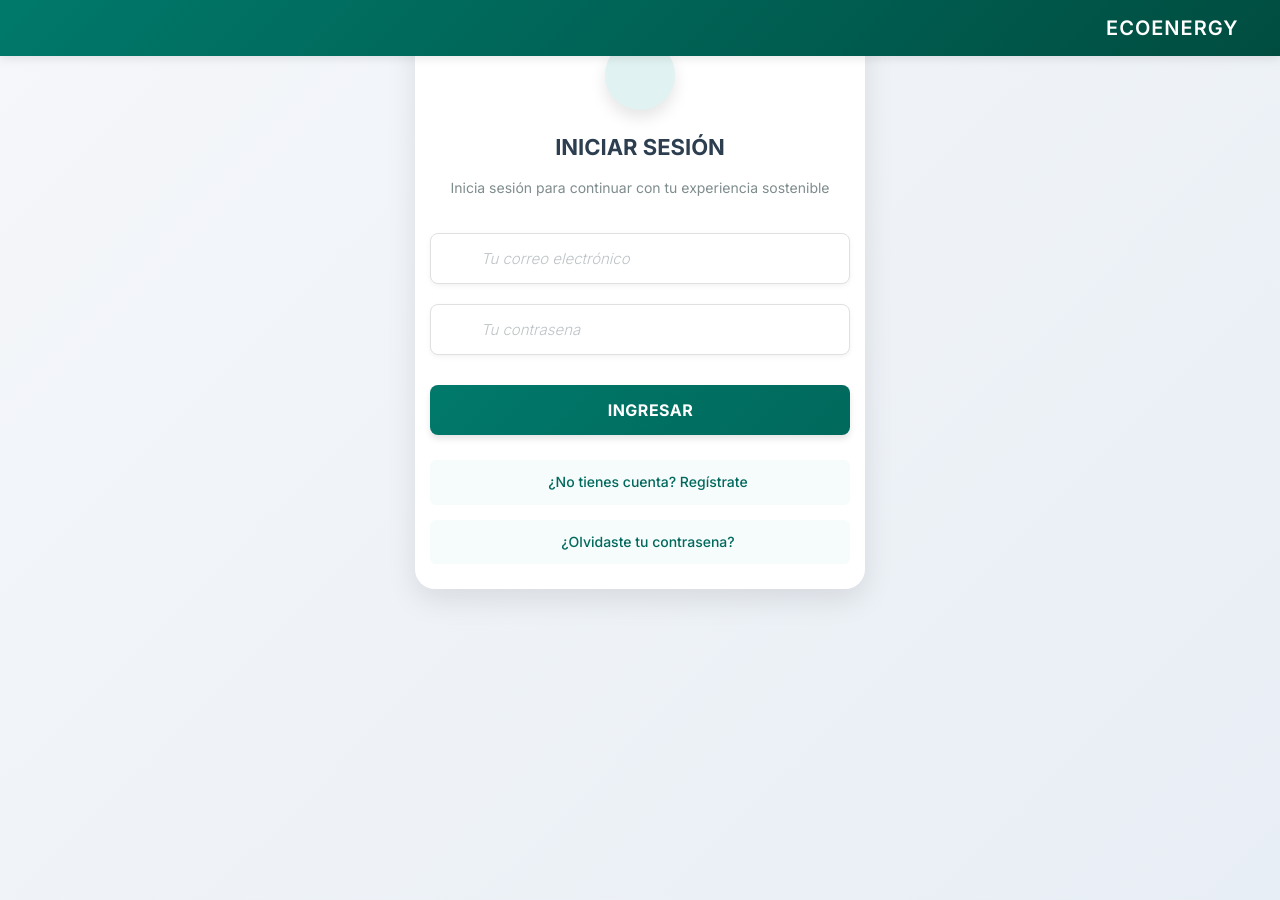
Test: Login | casos de formulario › Email correcto y sin contrasena
Type "admin@gmail.com" into the field with placeholder "Tu correo electrónico" at [640, 259], box x1=430 y1=233 x2=850 y2=284
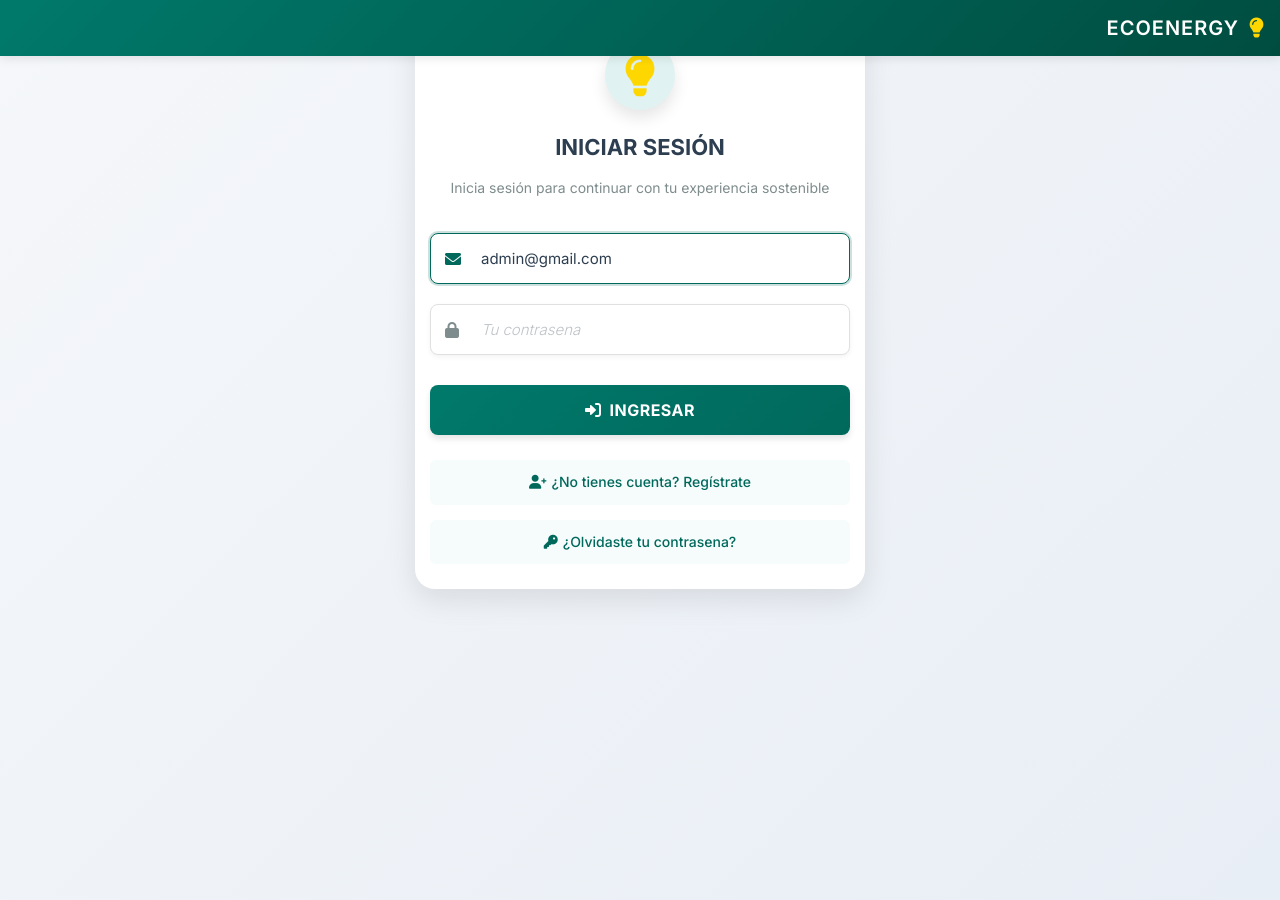
Submit the form, box x1=430 y1=233 x2=850 y2=435
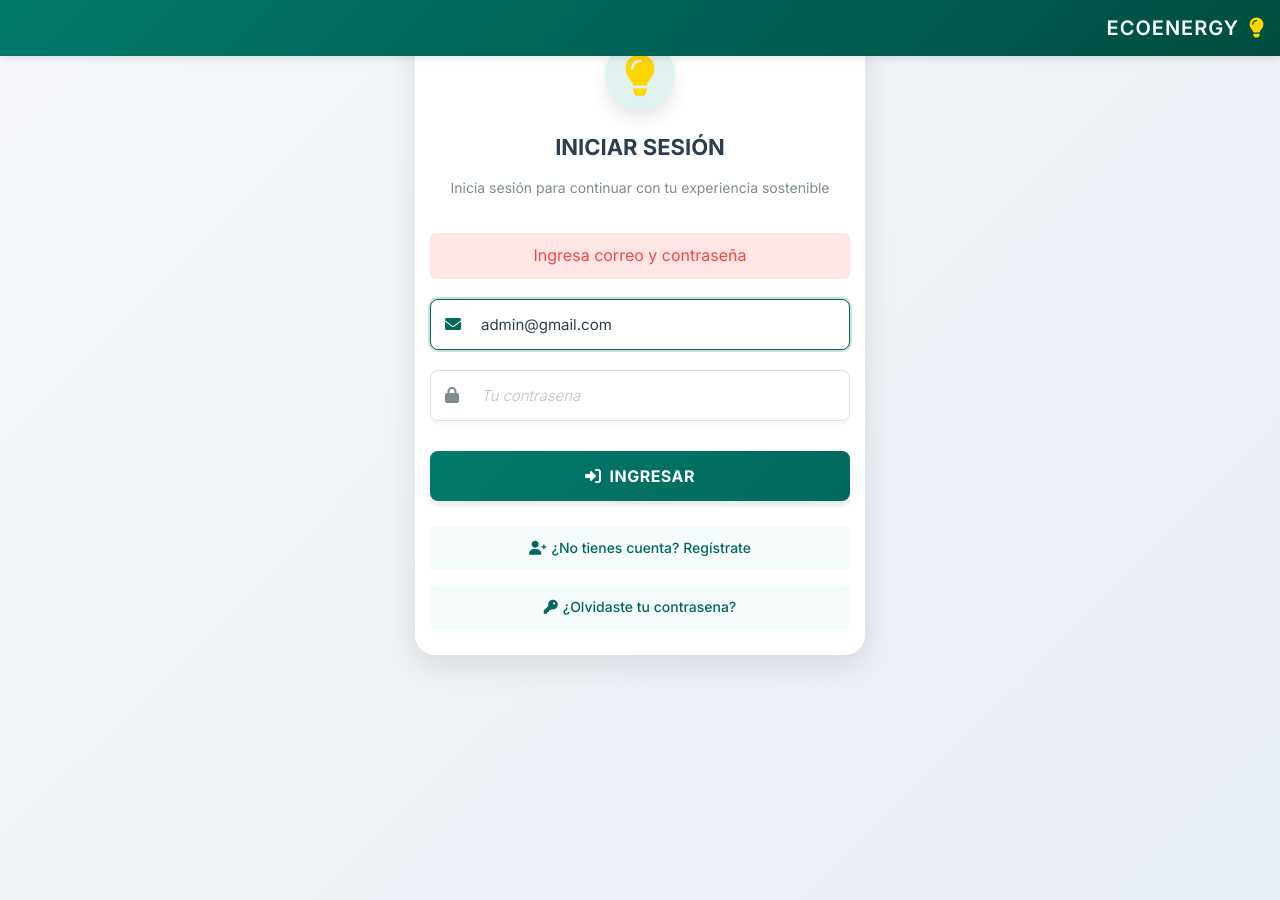
Expected: the text "Ingresa correo y contraseña" is shown, x1=430 y1=233 x2=850 y2=279
